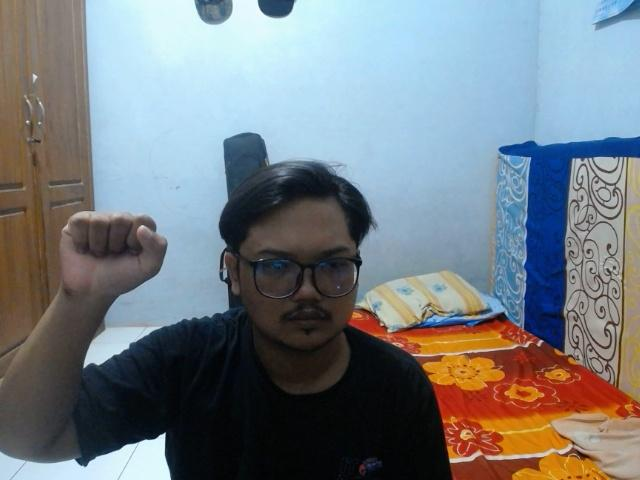Grab: (52, 206, 173, 308)
